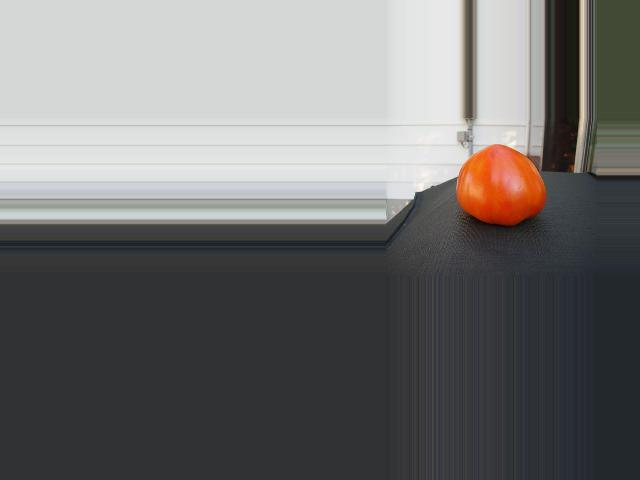tomato: (456, 143, 545, 225)
